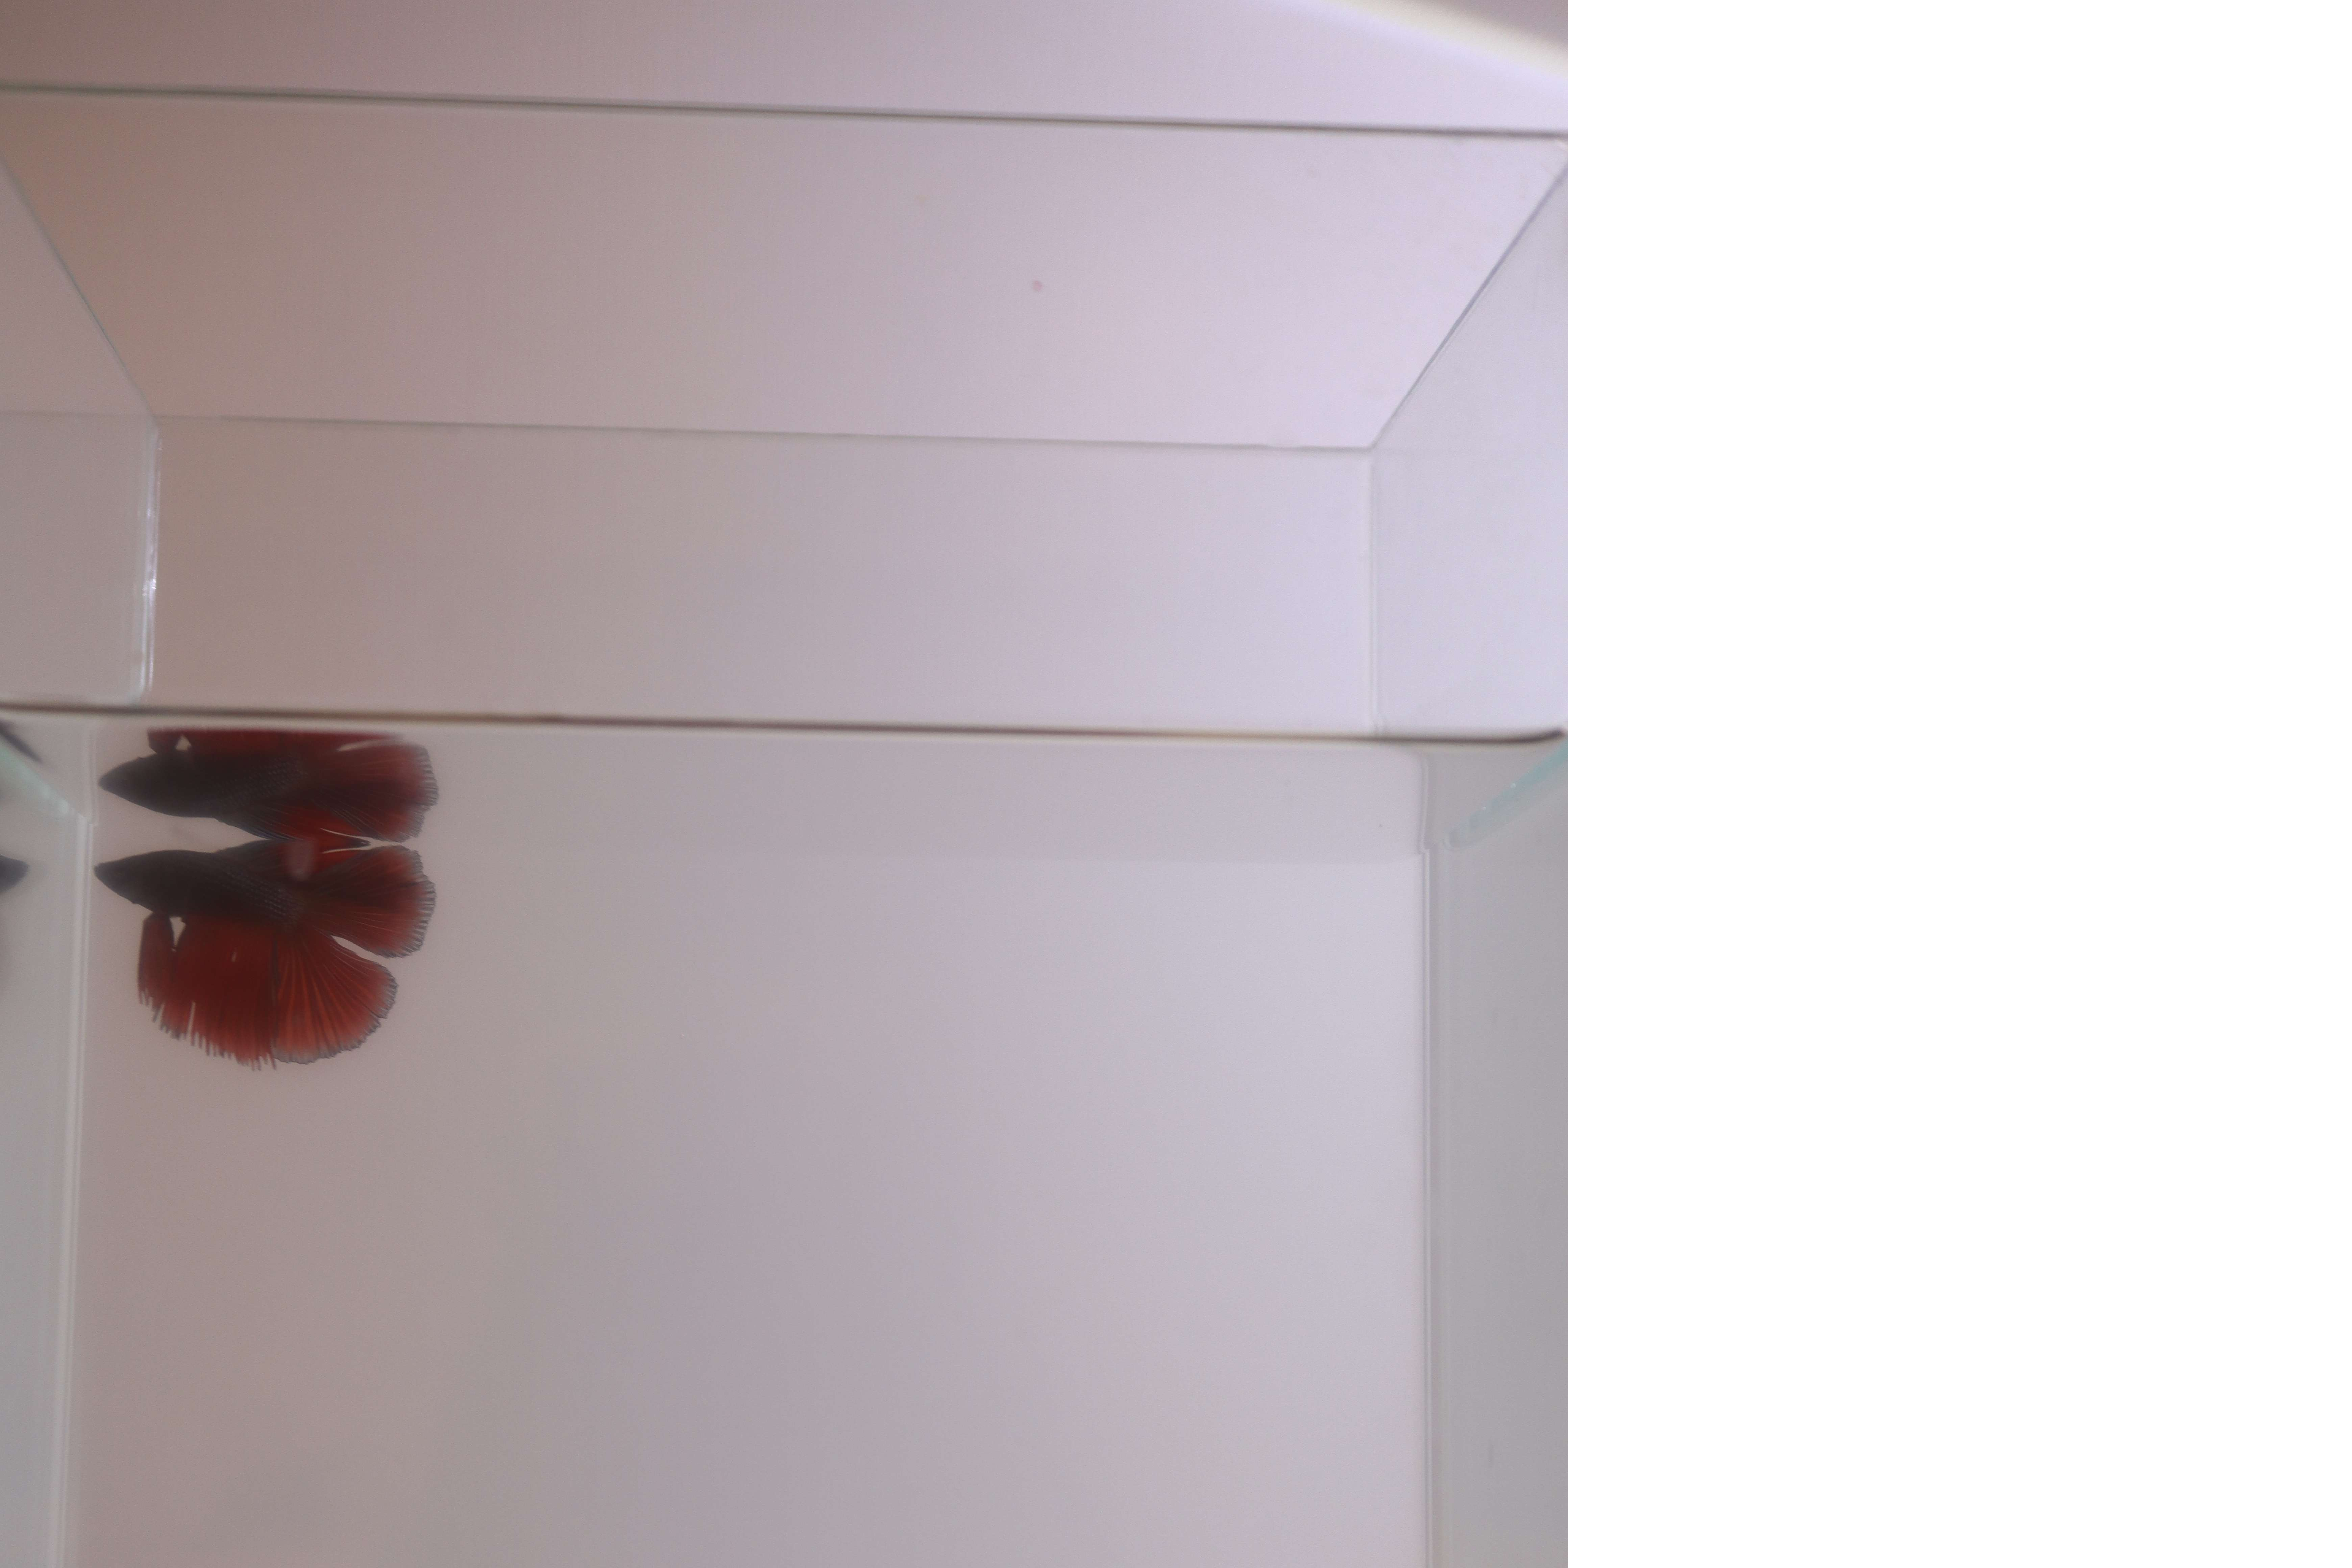fish: (86, 826, 437, 1069)
